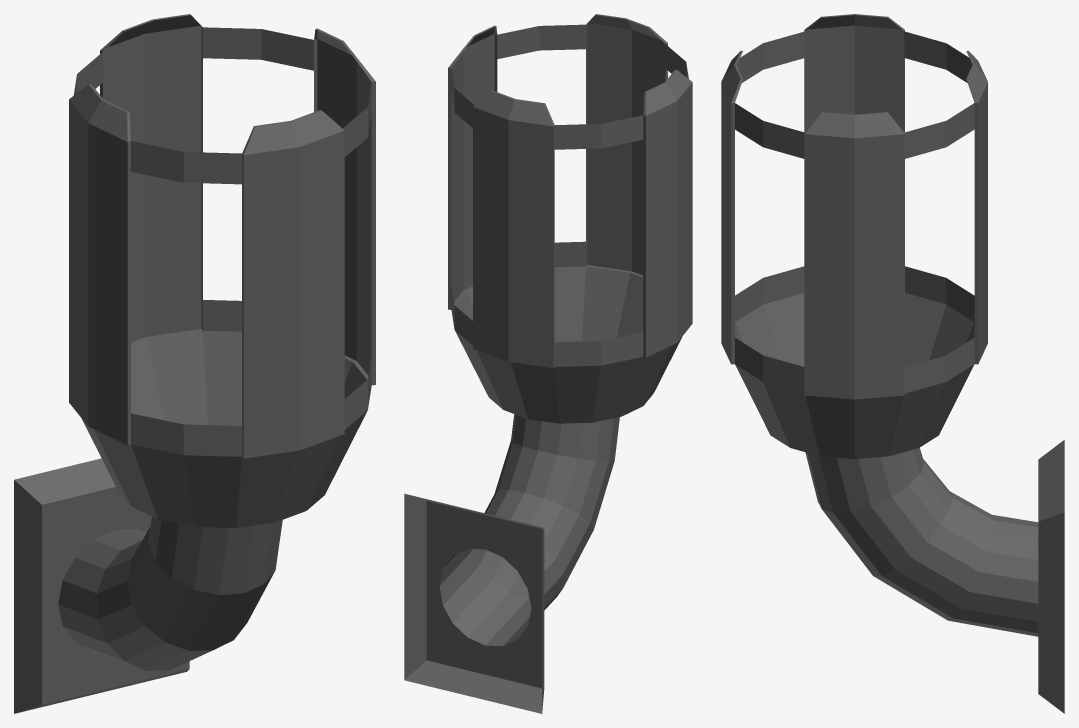
The model's file is WallTorch.fbx.
The picture shows the model from 3 angles, left to right: view 1: azimuth 30°, elevation 25°; view 2: azimuth 150°, elevation 25°; view 3: azimuth 270°, elevation 25°; orthographic projection. The views are drawn at different scales.
Visible parts, largest first — view 1: WallMountedTorch; view 2: WallMountedTorch; view 3: WallMountedTorch.
Part boxes in pixels (x1=…): WallMountedTorch: x1=14, y1=14, x2=375, y2=713; WallMountedTorch: x1=404, y1=14, x2=692, y2=713; WallMountedTorch: x1=721, y1=14, x2=1064, y2=713.
Size of the model in its own units: 0.1029 by 0.2607 by 0.1324.
